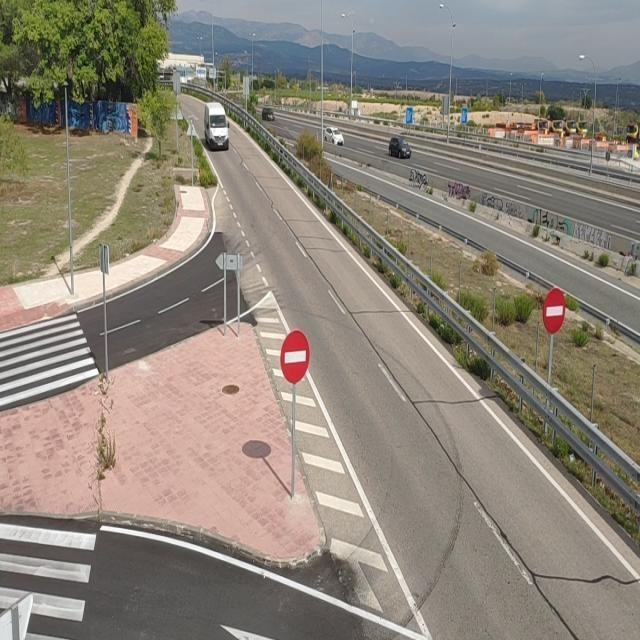Car: (387, 137, 412, 159), (324, 126, 344, 146), (260, 108, 276, 121)
Van: (203, 101, 231, 150)
